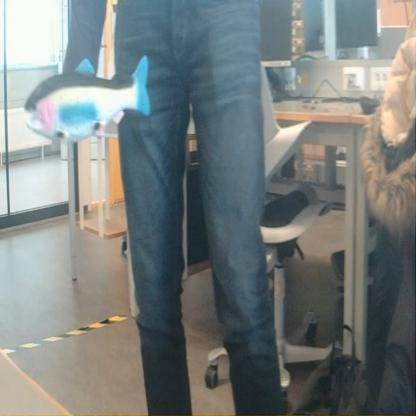rubberfish: (22, 54, 154, 147)
